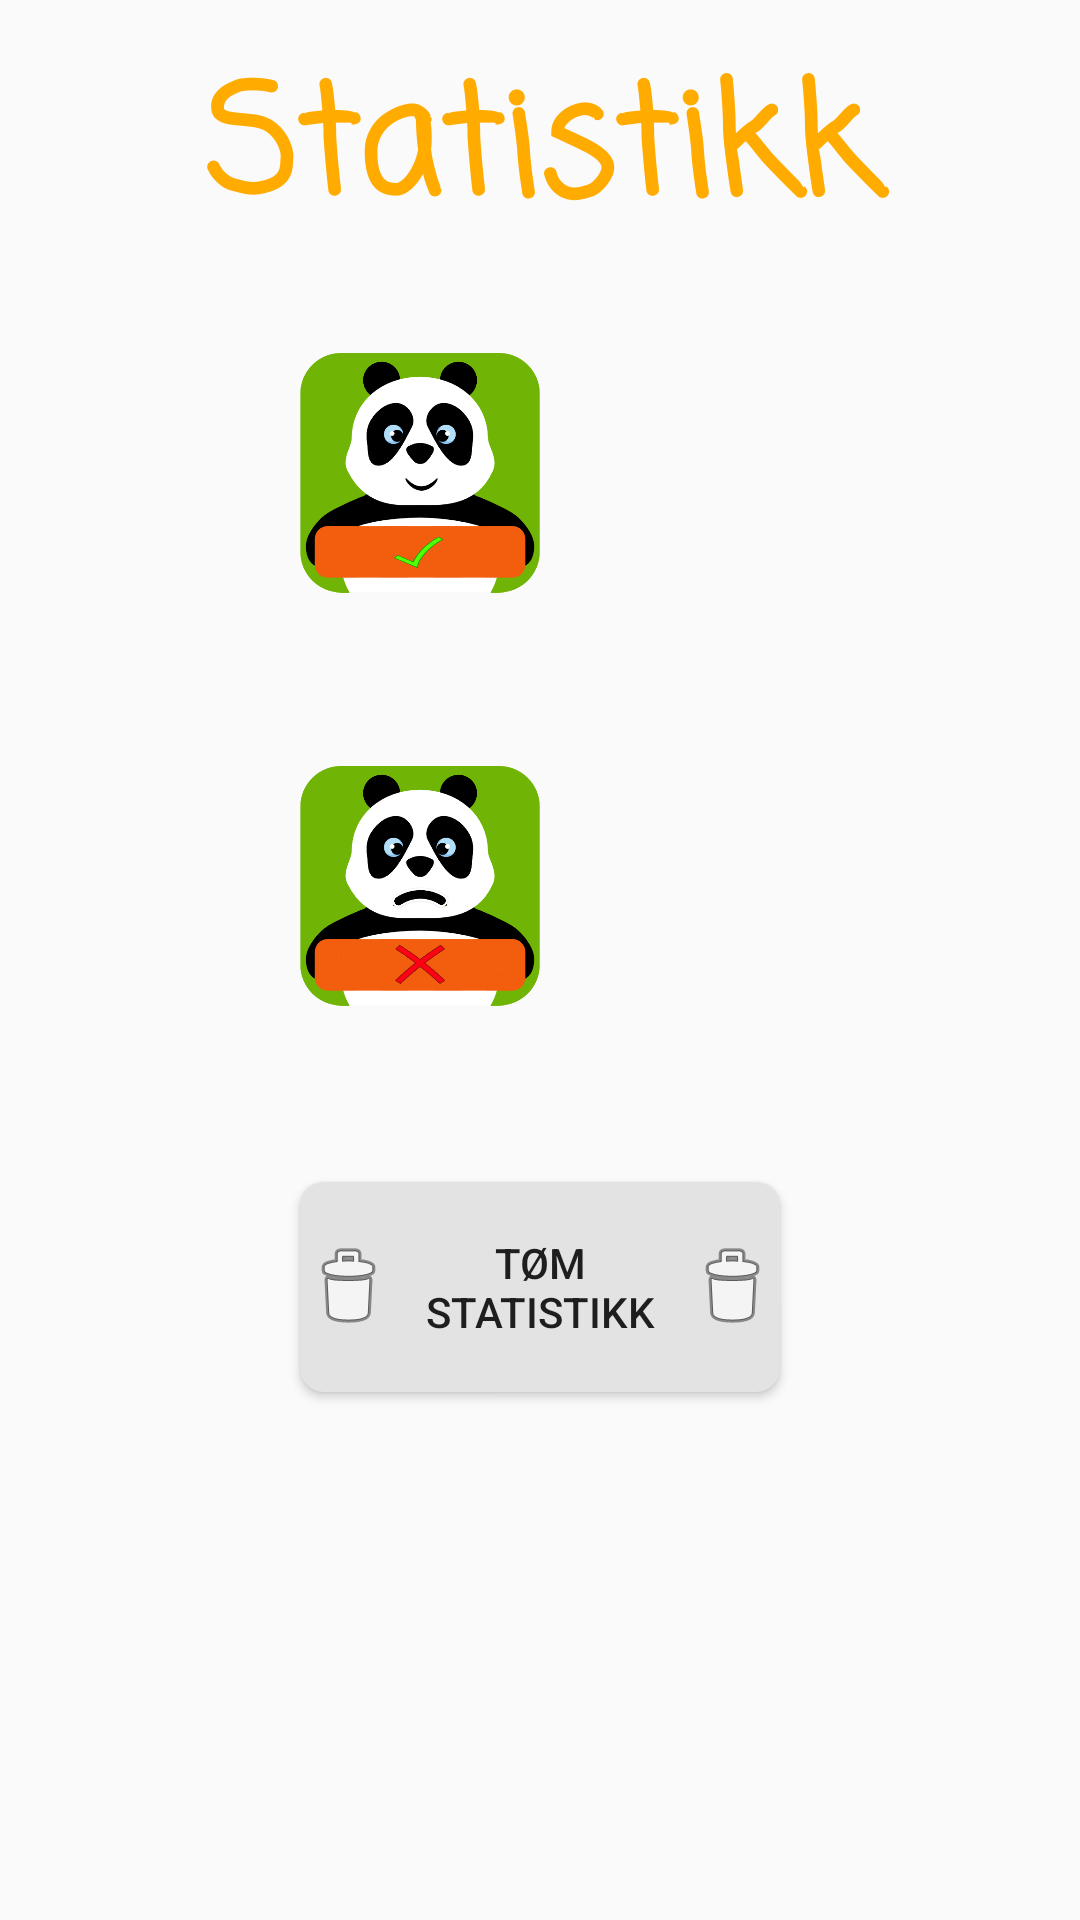

Named icons in this screenshot (1080x1920) and their bounding boxes, (x1, y1, x2, y2):
feil: (300, 766, 540, 1006)
riktig: (300, 353, 540, 593)
